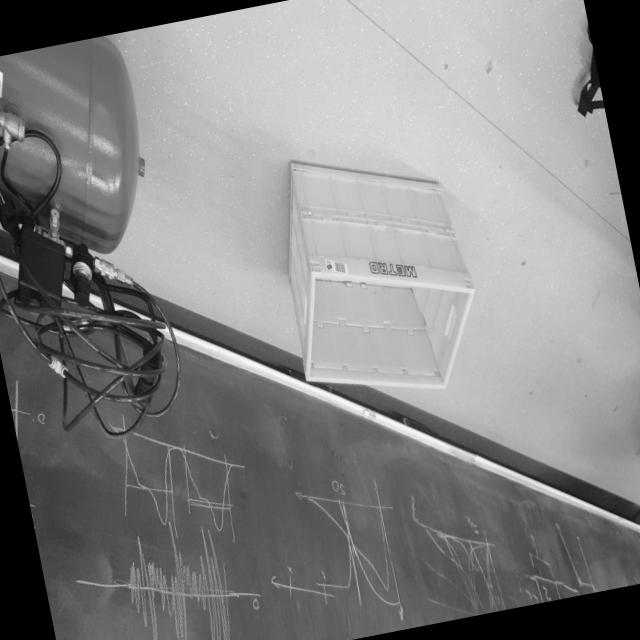box: (255, 120, 510, 432)
